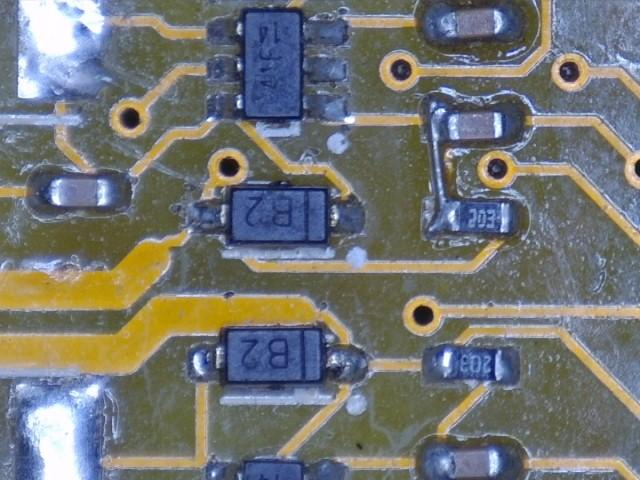Dry_joint: (328, 347, 367, 385), (305, 20, 349, 46), (208, 94, 245, 121), (426, 446, 455, 480), (309, 97, 348, 122), (309, 59, 348, 83), (333, 205, 365, 233), (207, 59, 238, 82), (209, 20, 237, 45)
Short_circuit: (425, 102, 462, 238)
